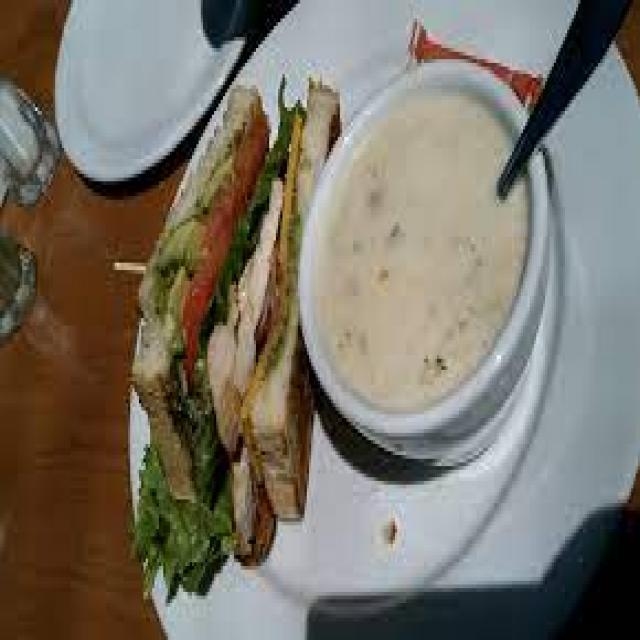Sandwich: (130, 63, 322, 595)
